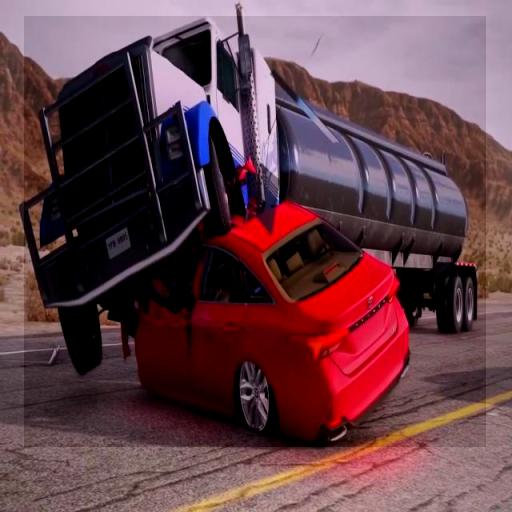小汽车撞小汽车: (24, 16, 486, 447)
